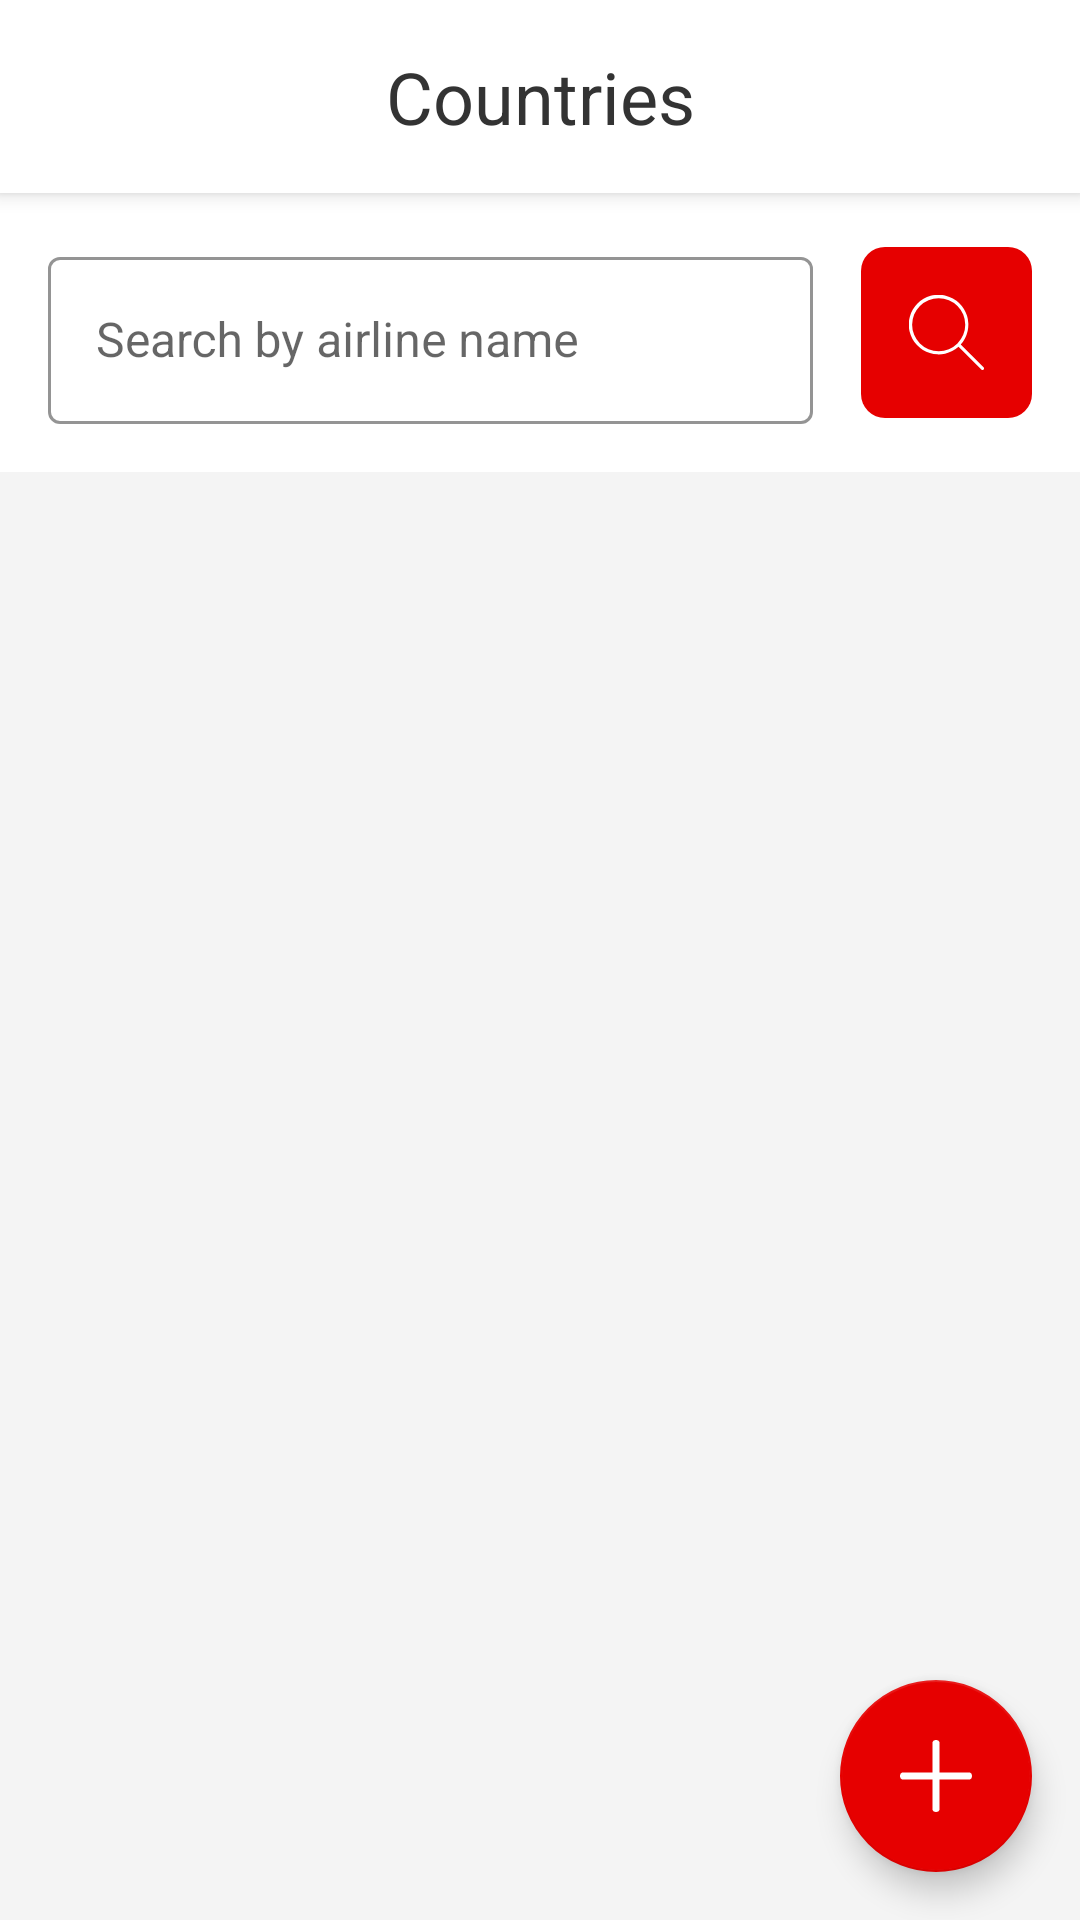

Icon click points for this 1080×1920 phone screenshot, format [x,y]:
Plus Icon to add new airline: [936,1776]
Search airlines by name: [946,332]
